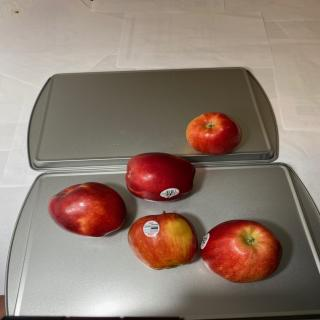Apple: (200, 220, 283, 284), (47, 182, 127, 238), (128, 211, 198, 270), (125, 152, 196, 202), (186, 112, 242, 155)
